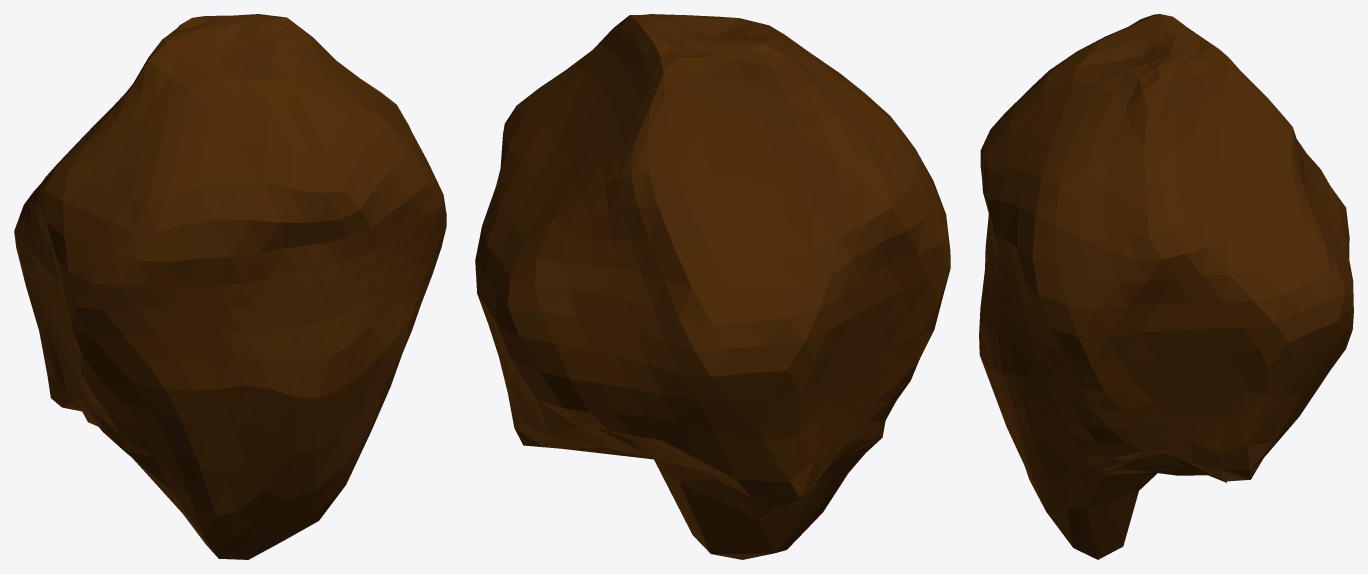
File: Asteroid1.fbx
3 views of the same model, side by side, from view 1: azimuth 30°, elevation 25°; view 2: azimuth 150°, elevation 25°; view 3: azimuth 270°, elevation 25° (orthographic). The views are drawn at different scales.
Parts seen in each view (by area): view 1: Icosphere; view 2: Icosphere; view 3: Icosphere.
Boxes of the visible parts, x1,y1,x2,y2 form: Icosphere: [14, 14, 446, 559]; Icosphere: [475, 14, 950, 559]; Icosphere: [979, 14, 1353, 559].
Bounding box in the file's own units: 1125 × 1463 × 970.
